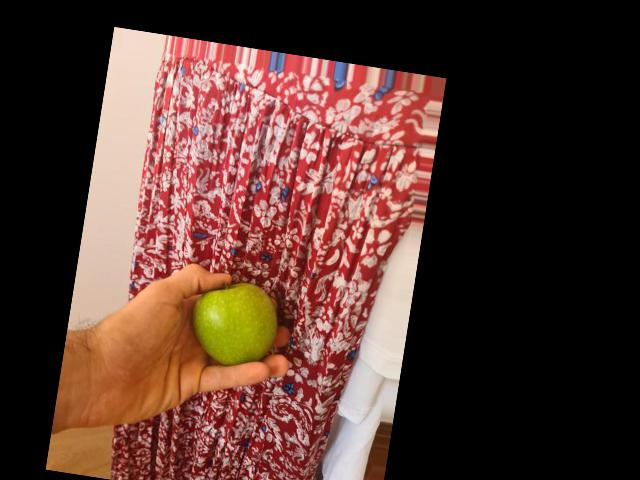apple: (188, 280, 277, 371)
